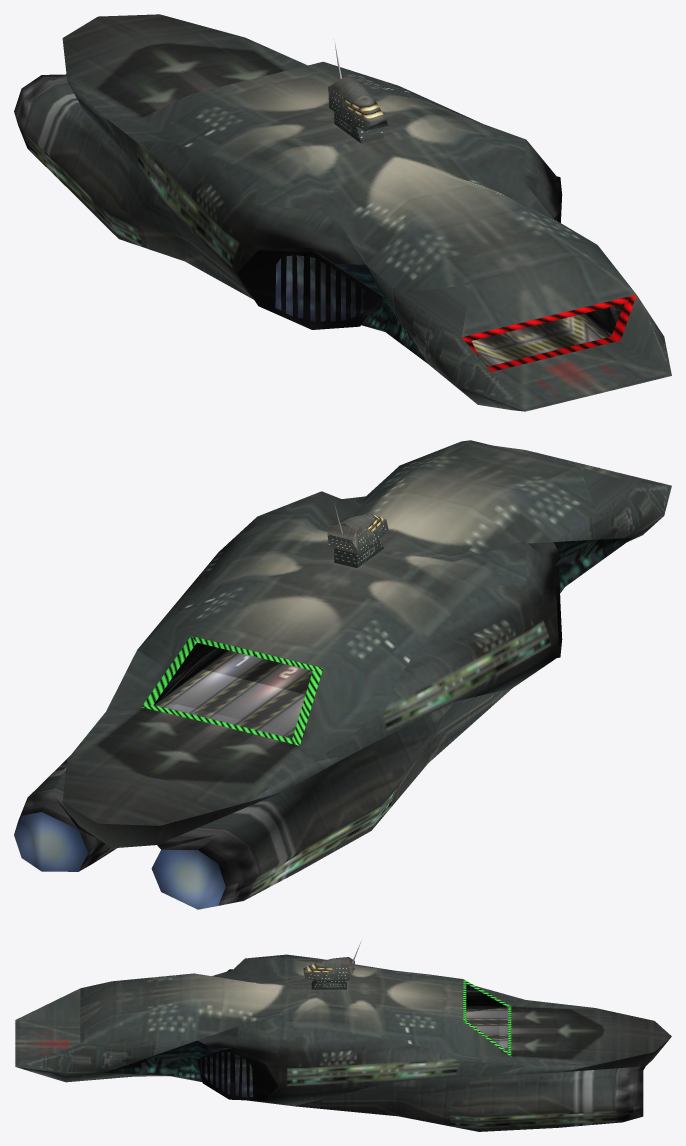
The model's file is cap500.obj.
The picture shows the model from 3 angles, top to bottom: view 1: azimuth 30°, elevation 25°; view 2: azimuth 150°, elevation 25°; view 3: azimuth 270°, elevation 25°; orthographic projection. The views are drawn at different scales.
Parts seen in each view (by area): view 1: frm-Body_1, frm-r_engine_pod, frm-cube3, frm-tower, frm-tower_base; view 2: frm-Body_1, frm-r_engine_pod, frm-L_engine_pod, frm-tower; view 3: frm-Body_1, frm-L_engine_pod, frm-cube1, frm-tower, frm-tower_base.
Boxes of the visible parts, left/top/right/bottom form: frm-Body_1: left=62, top=14, right=671, bottom=411; frm-r_engine_pod: left=14, top=74, right=253, bottom=299; frm-cube3: left=237, top=248, right=381, bottom=329; frm-tower: left=328, top=77, right=388, bottom=131; frm-tower_base: left=334, top=112, right=383, bottom=143; frm-Body_1: left=62, top=440, right=671, bottom=848; frm-r_engine_pod: left=151, top=688, right=512, bottom=909; frm-L_engine_pod: left=14, top=756, right=116, bottom=871; frm-tower: left=327, top=513, right=388, bottom=554; frm-Body_1: left=15, top=954, right=671, bottom=1106; frm-L_engine_pod: left=294, top=1066, right=645, bottom=1131; frm-cube1: left=197, top=1048, right=278, bottom=1100; frm-tower: left=303, top=957, right=354, bottom=980; frm-tower_base: left=311, top=980, right=346, bottom=989.
Bounding box in the file's own units: 6.93 × 5.06 × 18.55.
